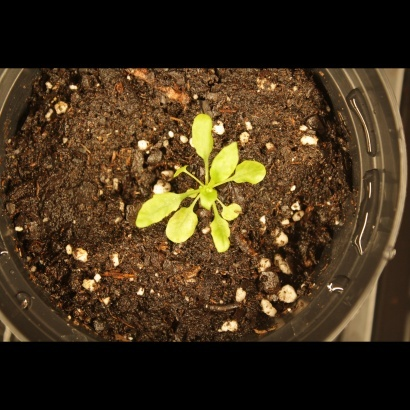leaf: (134, 193, 191, 229), (209, 131, 243, 186), (186, 109, 218, 166), (230, 157, 273, 190), (204, 213, 237, 255), (164, 207, 200, 243), (219, 197, 247, 226), (165, 158, 192, 183), (197, 187, 220, 210)
